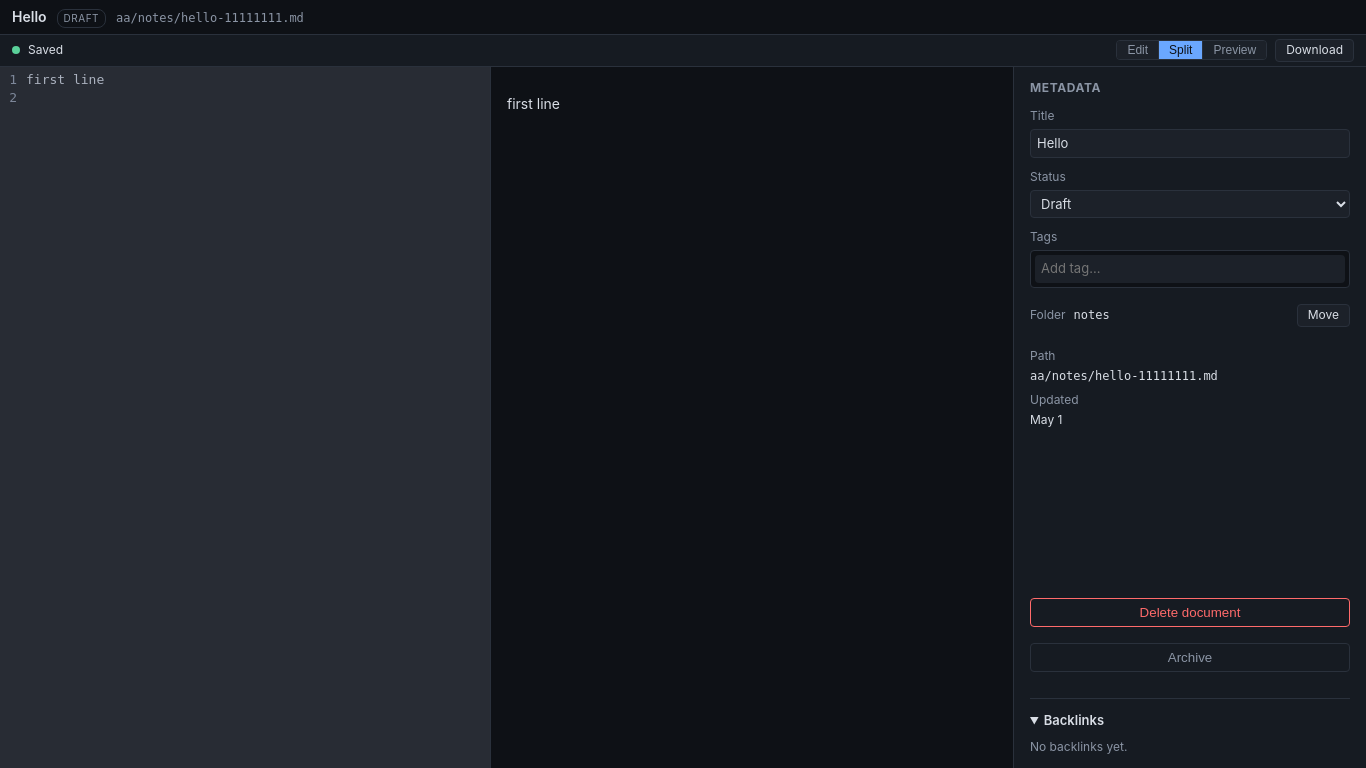
Test case: DocumentWorkspace autosave during a delayed save › keeps B unsaved after A succeeds while B is still being typed
Replace the text in the field showing "Hello" with "A": (1190,144) [1030,129,1350,158]
Wait 900 ms
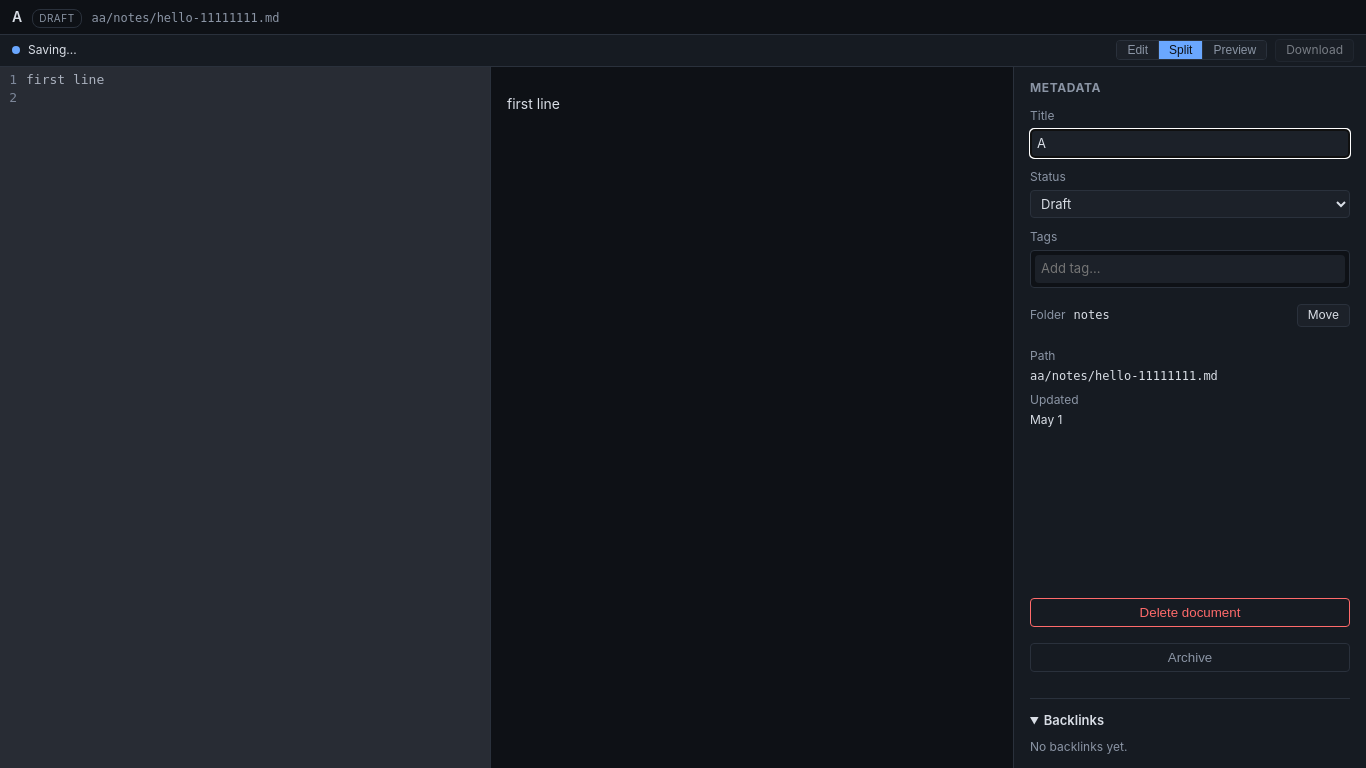
In the field showing "Hello": (1190,144) [1030,129,1350,158], type "B"
Wait 900 ms
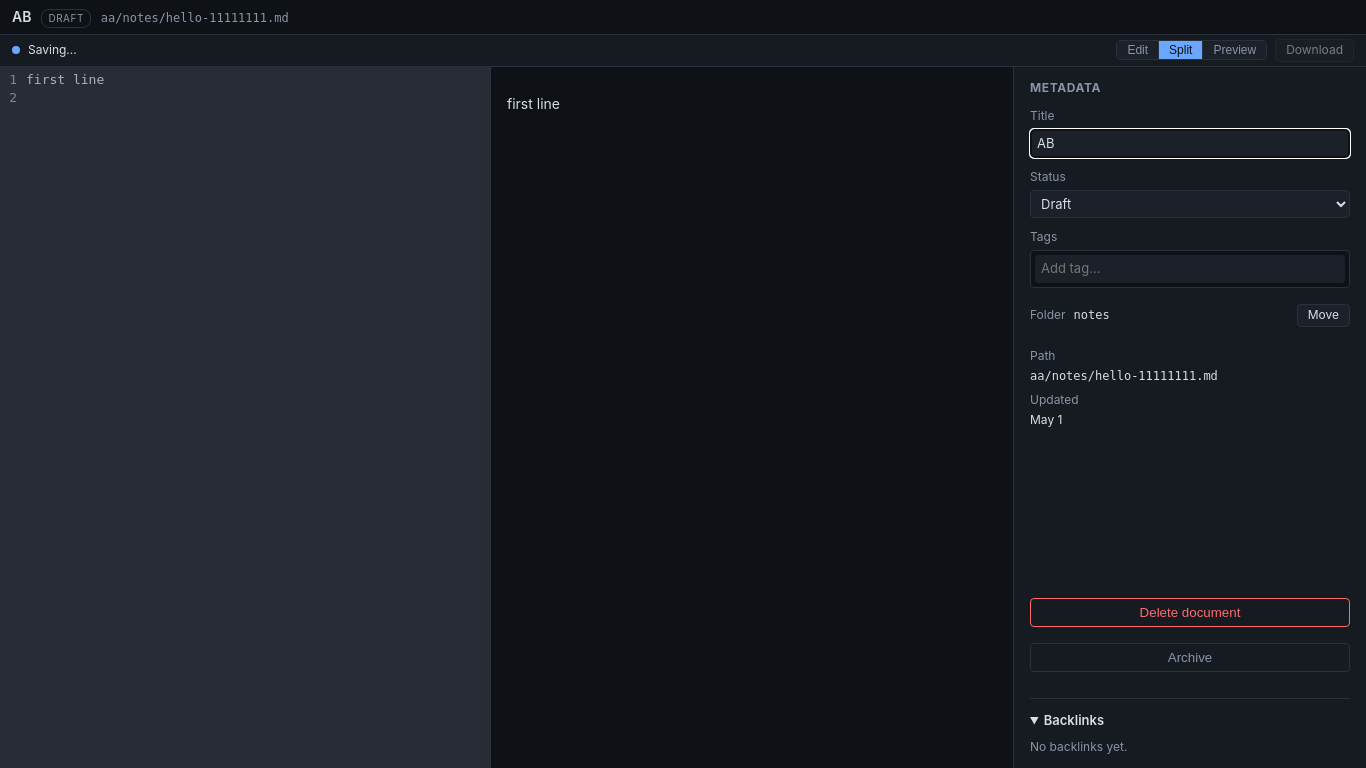
Expected: the text "Unsaved changes" is shown, [28,41,77,59]
Result: the field showing "AB" is shown at [1030,129,1350,158]
